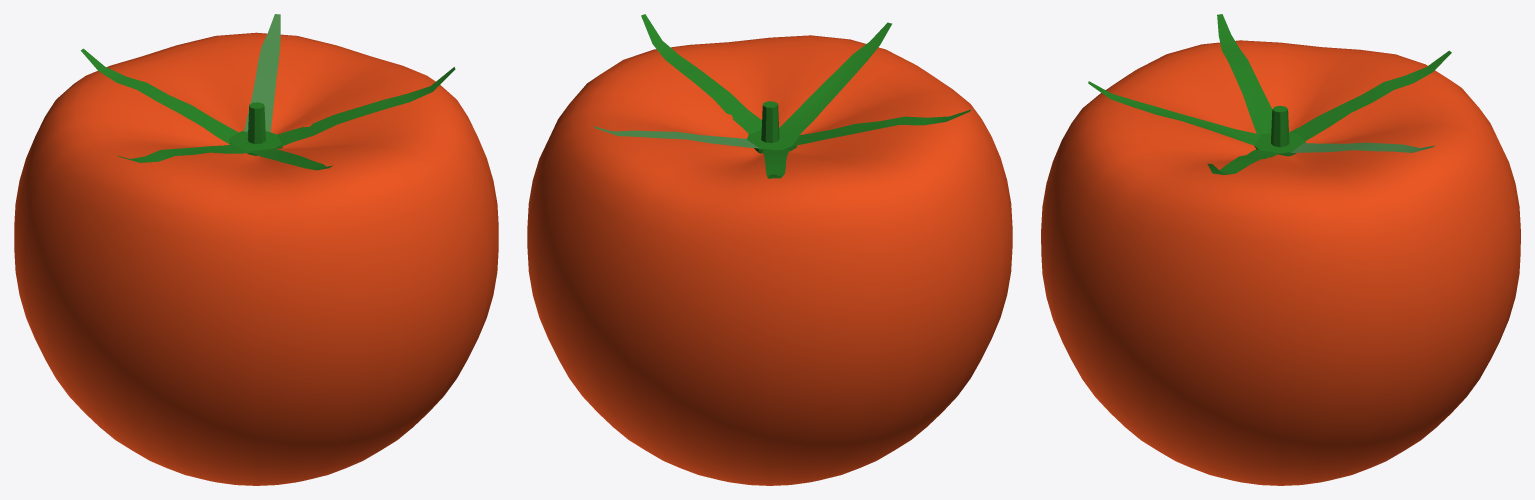
Rendered from domates.fbx.
3 views of the same model, side by side, from view 1: azimuth 30°, elevation 25°; view 2: azimuth 150°, elevation 25°; view 3: azimuth 270°, elevation 25° (orthographic).
Parts seen in each view (by area): view 1: pSphere1, pPlane8, pPlane7, pPlane3, pPlane10, pPlane9, pCylinder2, pCylinder1; view 2: pSphere1, pPlane9, pPlane3, pPlane10, pPlane7, pCylinder2, pCylinder1, pPlane8; view 3: pSphere1, pPlane10, pPlane8, pPlane9, pPlane7, pCylinder2, pPlane3, pCylinder1.
Part boxes in pixels (x1,y1,x2,y2): pSphere1: (14, 32, 498, 485); pPlane8: (81, 48, 238, 144); pPlane7: (244, 14, 280, 132); pPlane3: (277, 67, 455, 147); pPlane10: (117, 144, 251, 162); pPlane9: (249, 148, 332, 170); pCylinder2: (247, 102, 265, 143); pCylinder1: (229, 131, 282, 155); pSphere1: (527, 35, 1012, 485); pPlane9: (779, 22, 891, 136); pPlane3: (641, 14, 761, 134); pPlane10: (792, 109, 970, 145); pPlane7: (593, 126, 758, 148); pCylinder2: (761, 101, 779, 142); pCylinder1: (747, 129, 798, 153); pPlane8: (763, 148, 789, 178); pSphere1: (1041, 40, 1520, 485); pPlane10: (1217, 14, 1272, 134); pPlane8: (1289, 50, 1451, 140); pPlane9: (1088, 81, 1260, 145); pPlane7: (1290, 142, 1434, 152); pCylinder2: (1271, 105, 1289, 147); pPlane3: (1207, 149, 1279, 174); pCylinder1: (1254, 132, 1305, 156).
Bounding box in the file's own units: 12.83 × 11.28 × 12.76.
